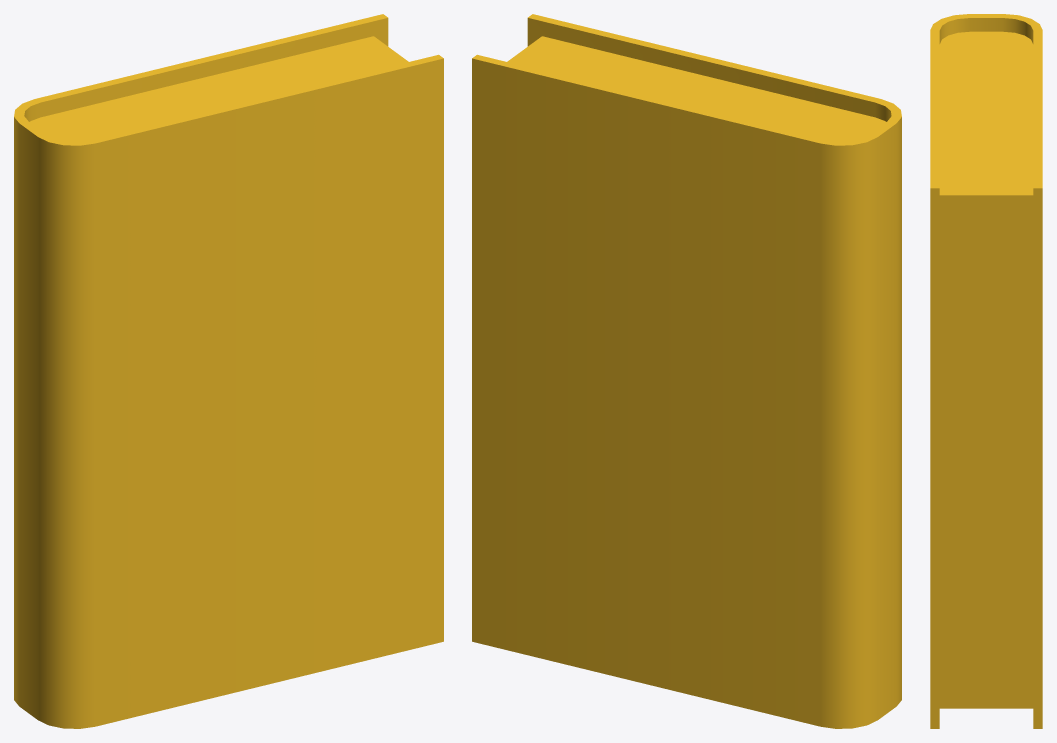
Rendered from Book.fbx.
The picture shows the model from 3 angles, left to right: view 1: azimuth 30°, elevation 25°; view 2: azimuth 150°, elevation 25°; view 3: azimuth 270°, elevation 25°; orthographic projection. The views are drawn at different scales.
Parts seen in each view (by area): view 1: Book; view 2: Book; view 3: Book.
Boxes of the visible parts, x1,y1,x2,y2 form: Book: [14, 14, 443, 728]; Book: [472, 14, 901, 728]; Book: [930, 14, 1042, 728].
Bounding box in the file's own units: 0.2717 × 0.3933 × 0.0742.
